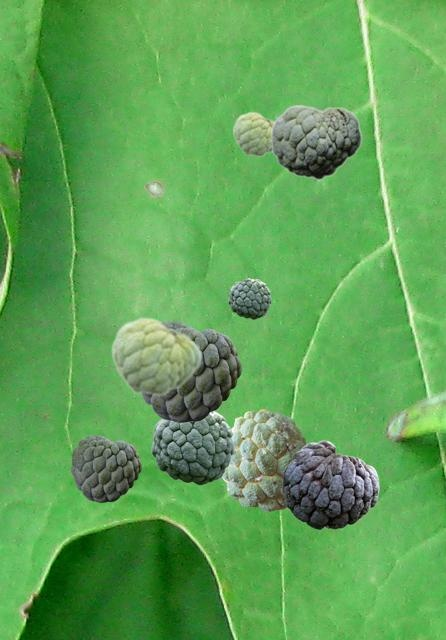atis: (142, 321, 240, 421), (222, 409, 306, 510), (282, 440, 378, 528), (110, 316, 201, 396), (270, 104, 361, 179), (151, 411, 233, 484), (71, 435, 140, 501), (232, 111, 273, 156), (228, 278, 270, 318)
